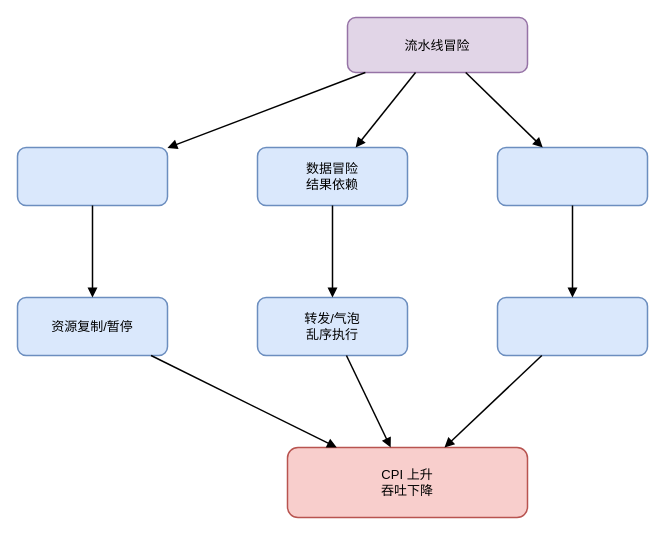
Image size: 666x536. Some labels were removed from this diagram. The box of each missing label's shape, as (x1, y1, x2, y2) in pixels:
分支预测 预测错冲刷: (496, 296, 648, 356)
控制冒险 分支跳转: (496, 146, 648, 206)
结构冒险 资源冲突: (16, 146, 168, 206)
